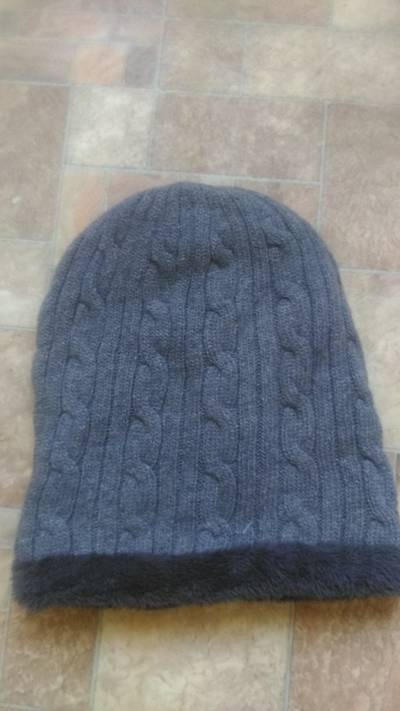Hat: (18, 120, 398, 636)
